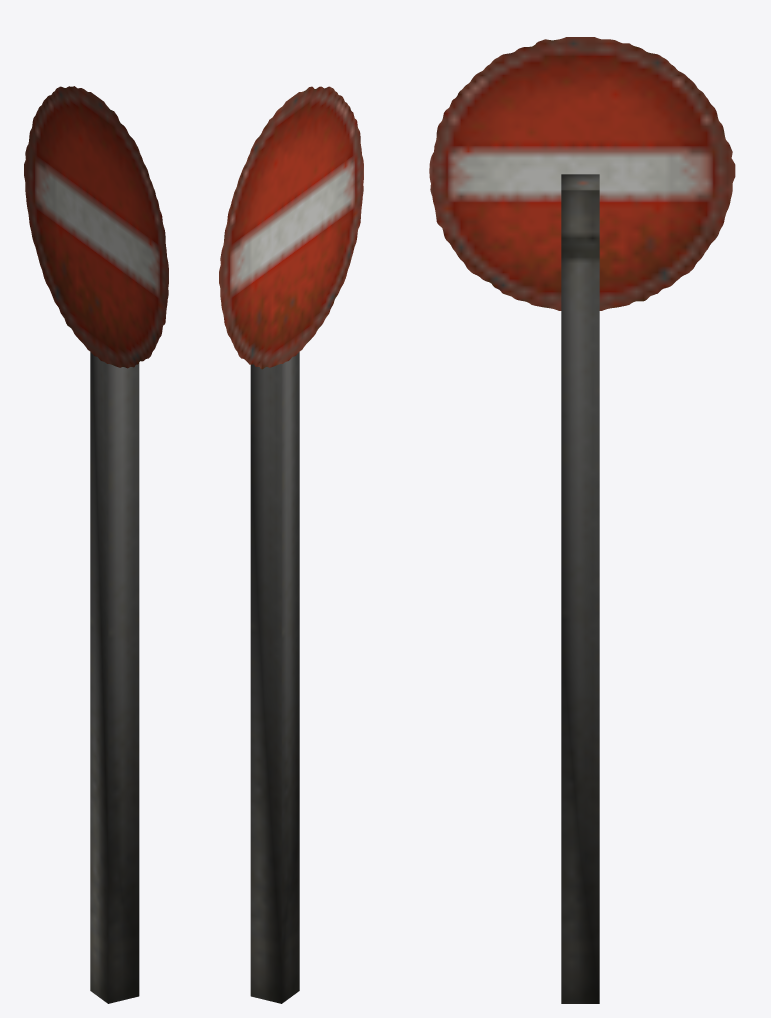
Rendered from roadsign0.fbx.
3 renders of one model, left to right at view 1: azimuth 30°, elevation 25°; view 2: azimuth 150°, elevation 25°; view 3: azimuth 270°, elevation 25°, orthographic. The views are drawn at different scales.
Parts seen in each view (by area): view 1: roadsign0; view 2: roadsign0; view 3: roadsign0.
Part boxes in pixels (x1=…): roadsign0: x1=24, y1=86, x2=168, y2=1003; roadsign0: x1=219, y1=86, x2=363, y2=1003; roadsign0: x1=429, y1=37, x2=735, y2=1003.
Size of the model in its own units: 11.4 by 100 by 305.
1 material, 1 textured.
